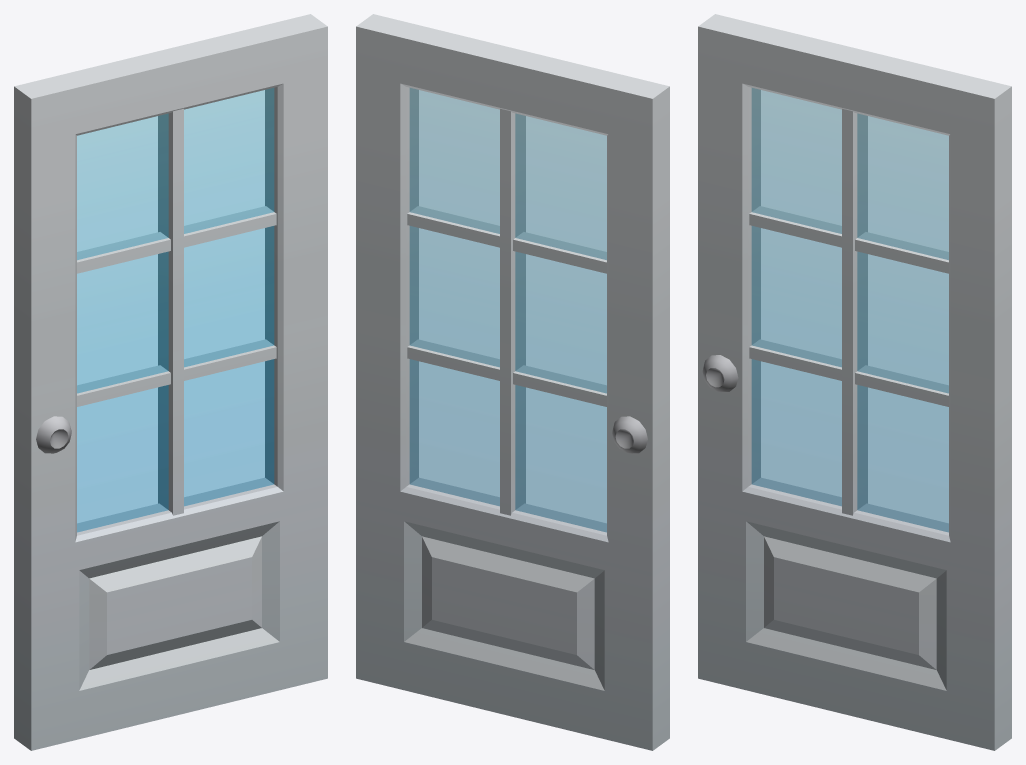
Rendered from Door_White_01.glb.
3 renders of one model, left to right at view 1: azimuth 30°, elevation 25°; view 2: azimuth 150°, elevation 25°; view 3: azimuth 330°, elevation 25°, orthographic.
Visible parts, largest first — view 1: Door_White_01; view 2: Door_White_01; view 3: Door_White_01.
Part boxes in pixels (bbox=[...]): Door_White_01: bbox=[14, 14, 327, 750]; Door_White_01: bbox=[356, 14, 669, 750]; Door_White_01: bbox=[698, 14, 1011, 750].
Bounding box in the file's own units: 1 × 2.1 × 0.1634.
2 materials, 2 textured.
